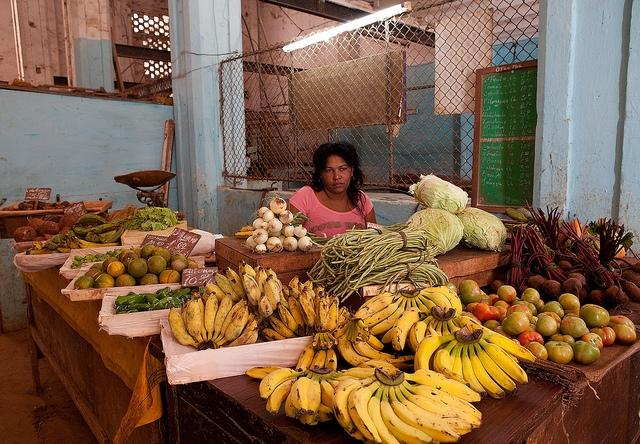banana: (389, 386, 461, 442), (393, 385, 472, 435), (398, 383, 482, 429), (402, 378, 482, 420), (380, 385, 433, 444), (332, 373, 378, 434), (478, 336, 528, 386), (404, 370, 481, 402), (474, 342, 519, 394), (348, 380, 382, 443), (468, 344, 506, 399), (367, 383, 400, 444), (433, 338, 470, 388), (392, 309, 432, 353), (482, 332, 538, 363), (414, 331, 456, 372), (260, 368, 310, 401), (336, 321, 371, 367), (368, 296, 408, 336), (461, 344, 487, 399), (216, 304, 250, 346), (418, 284, 462, 316), (214, 298, 246, 342), (454, 310, 506, 337), (168, 305, 200, 348), (364, 296, 405, 328), (354, 292, 402, 319), (266, 380, 300, 416), (212, 292, 232, 342), (409, 315, 434, 353), (203, 282, 238, 308), (290, 377, 314, 414), (225, 266, 248, 304), (213, 272, 242, 302), (352, 342, 399, 360), (295, 332, 316, 372), (186, 297, 203, 344), (276, 301, 298, 336), (420, 290, 452, 312), (268, 315, 298, 338), (242, 272, 262, 306), (226, 327, 258, 348), (204, 292, 218, 340), (298, 294, 316, 331), (318, 371, 334, 412), (288, 295, 305, 332), (314, 296, 330, 332), (245, 366, 284, 380), (308, 376, 322, 415), (379, 355, 415, 370), (264, 278, 280, 311), (285, 392, 302, 420), (452, 343, 465, 379), (73, 238, 119, 248), (260, 328, 290, 342), (317, 401, 335, 423), (258, 292, 273, 318), (327, 300, 338, 333), (330, 370, 374, 378), (255, 266, 268, 292), (324, 347, 338, 370), (424, 318, 440, 338), (418, 294, 438, 310), (366, 334, 384, 351), (310, 350, 326, 368), (334, 306, 346, 330), (300, 412, 320, 426), (356, 358, 388, 366), (242, 262, 256, 280), (268, 274, 280, 295), (324, 375, 340, 389), (414, 296, 428, 312), (380, 328, 392, 345), (448, 318, 461, 333), (304, 286, 316, 302), (279, 300, 292, 314), (406, 331, 414, 353), (327, 332, 339, 346), (26, 249, 53, 255), (288, 274, 298, 290), (329, 294, 339, 308), (441, 321, 450, 336), (266, 266, 277, 278), (302, 278, 313, 290), (200, 292, 210, 305), (247, 312, 256, 326), (313, 284, 325, 294), (239, 259, 245, 277), (297, 282, 306, 294), (436, 320, 442, 337), (32, 240, 42, 250), (254, 263, 261, 273)
onion: (240, 236, 258, 253), (266, 236, 283, 253), (270, 197, 287, 214), (252, 228, 268, 244), (298, 236, 312, 252), (284, 237, 298, 252), (268, 218, 283, 232), (251, 206, 268, 218), (279, 210, 293, 224), (294, 224, 307, 237), (282, 223, 295, 236), (253, 218, 265, 231), (262, 210, 274, 223), (252, 244, 266, 254), (268, 230, 282, 238)
tomato: (579, 304, 610, 328), (544, 341, 574, 365), (572, 341, 600, 365), (502, 312, 530, 336), (458, 280, 482, 304), (560, 316, 586, 338), (558, 293, 580, 317), (506, 303, 532, 323), (590, 326, 616, 346), (606, 315, 636, 332), (612, 324, 636, 344), (474, 303, 500, 321), (536, 314, 557, 336), (523, 342, 548, 360), (516, 331, 544, 347), (550, 333, 576, 349), (580, 332, 603, 350), (513, 301, 537, 316), (544, 301, 564, 319), (520, 288, 540, 306), (516, 324, 538, 340), (536, 312, 562, 324), (498, 286, 516, 302), (494, 326, 516, 339), (483, 319, 501, 330), (466, 302, 479, 316), (494, 300, 511, 310), (478, 294, 492, 306), (488, 294, 501, 306), (497, 306, 508, 317), (508, 297, 521, 306), (563, 313, 580, 319), (530, 316, 538, 326), (510, 338, 520, 346), (536, 300, 544, 310), (538, 306, 544, 314), (480, 290, 486, 294)
